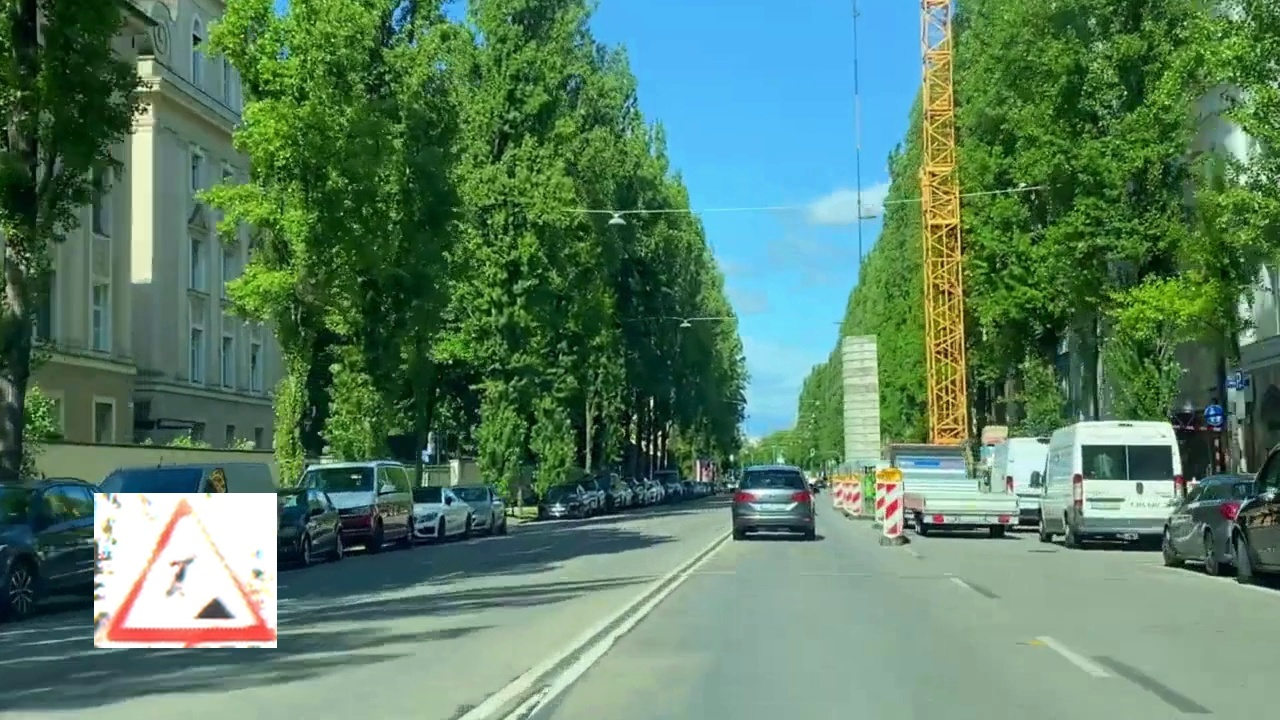Road work: (94, 493, 277, 648)
